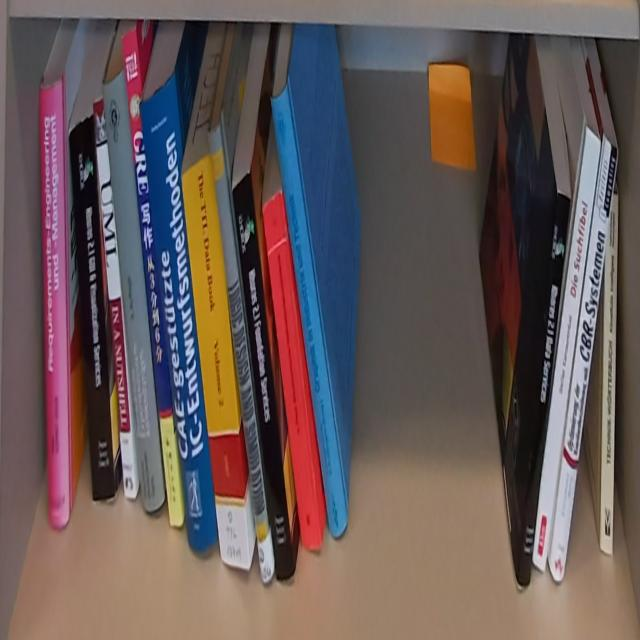Book Spine: (140, 73, 217, 554), (269, 84, 348, 534), (547, 137, 620, 587), (122, 30, 186, 529), (208, 122, 276, 583), (180, 151, 252, 574), (533, 125, 601, 570), (103, 63, 166, 516), (230, 176, 293, 582), (518, 190, 573, 589), (263, 189, 319, 549), (68, 114, 116, 505), (94, 95, 137, 498), (38, 77, 71, 531), (599, 190, 620, 551)
